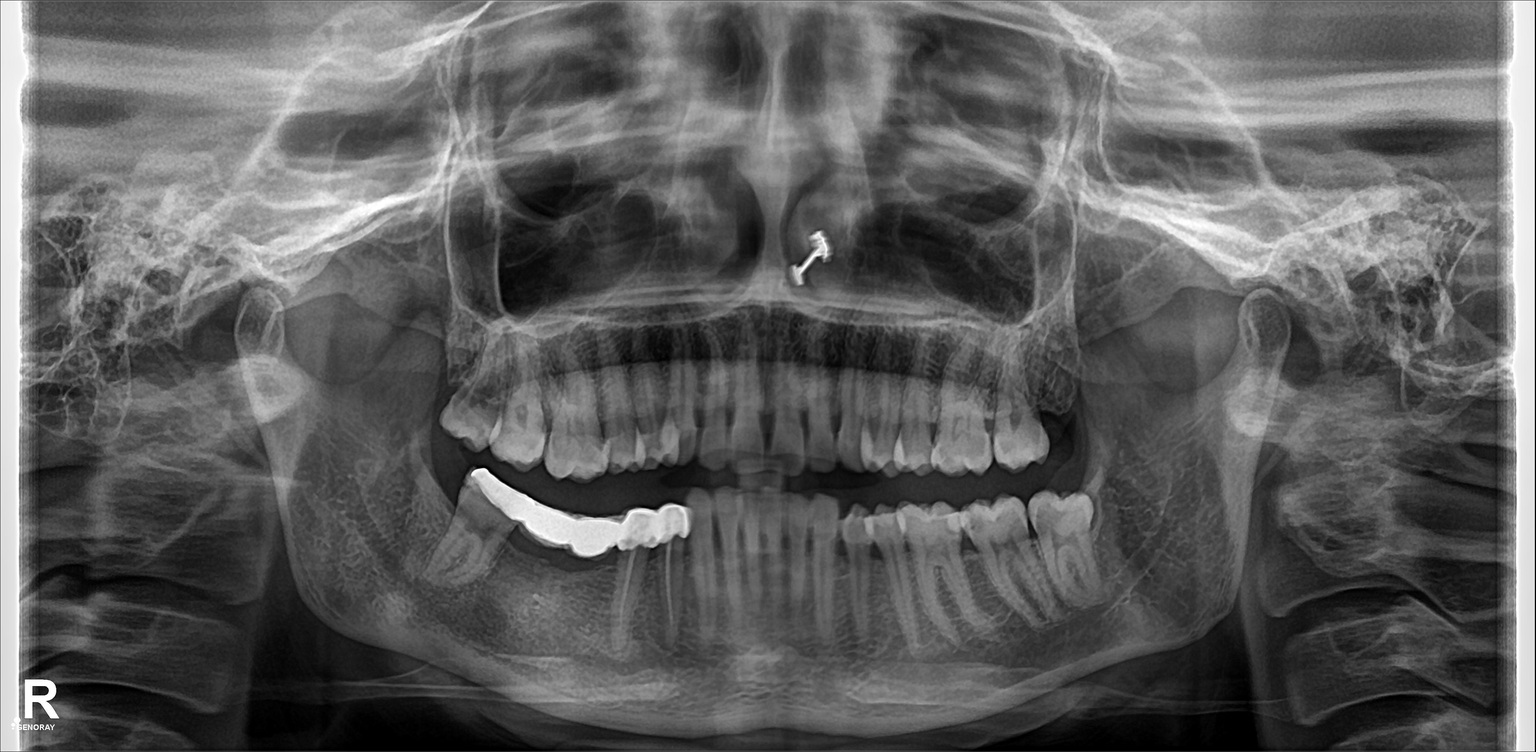Endodontically Treated Tooth: (454, 471, 515, 626), (581, 530, 641, 654), (514, 501, 566, 642), (652, 514, 681, 660)
Missing Tooth: (1043, 357, 1082, 450), (415, 326, 454, 417)
